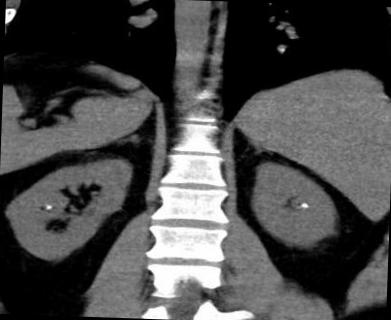Tas_Var: (300, 199, 309, 212), (43, 204, 54, 211)
